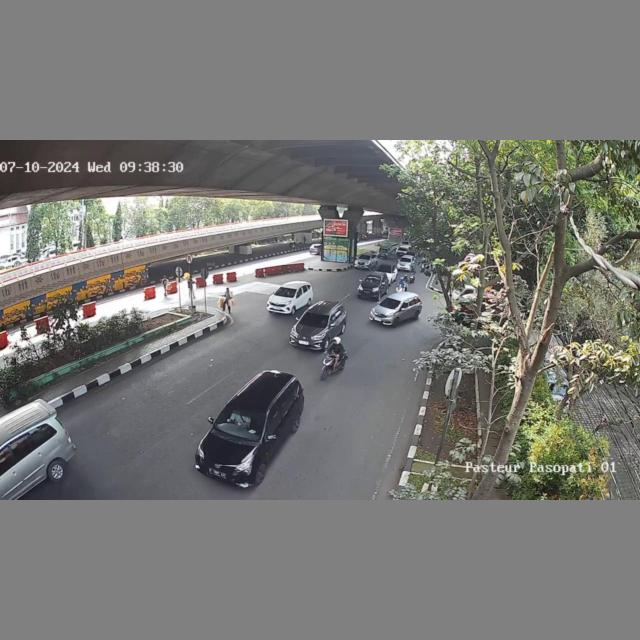windshield: (217, 402, 270, 441), (299, 313, 329, 328), (380, 296, 401, 309), (274, 287, 296, 297), (364, 275, 383, 285)
